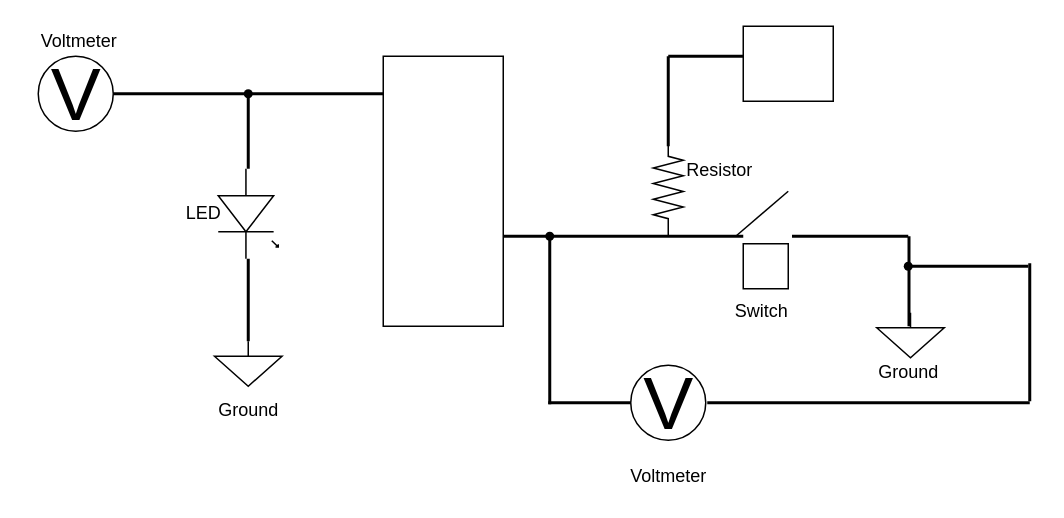
Image size: 1064x518. Some labels were removed from this diagram. The box of each missing label's shape, as (x1, y1, x2, y2) in pixels:
5V DC: (742, 25, 833, 101)
ATMEGA 328P MICRO CONTROLLER: (382, 55, 503, 326)
